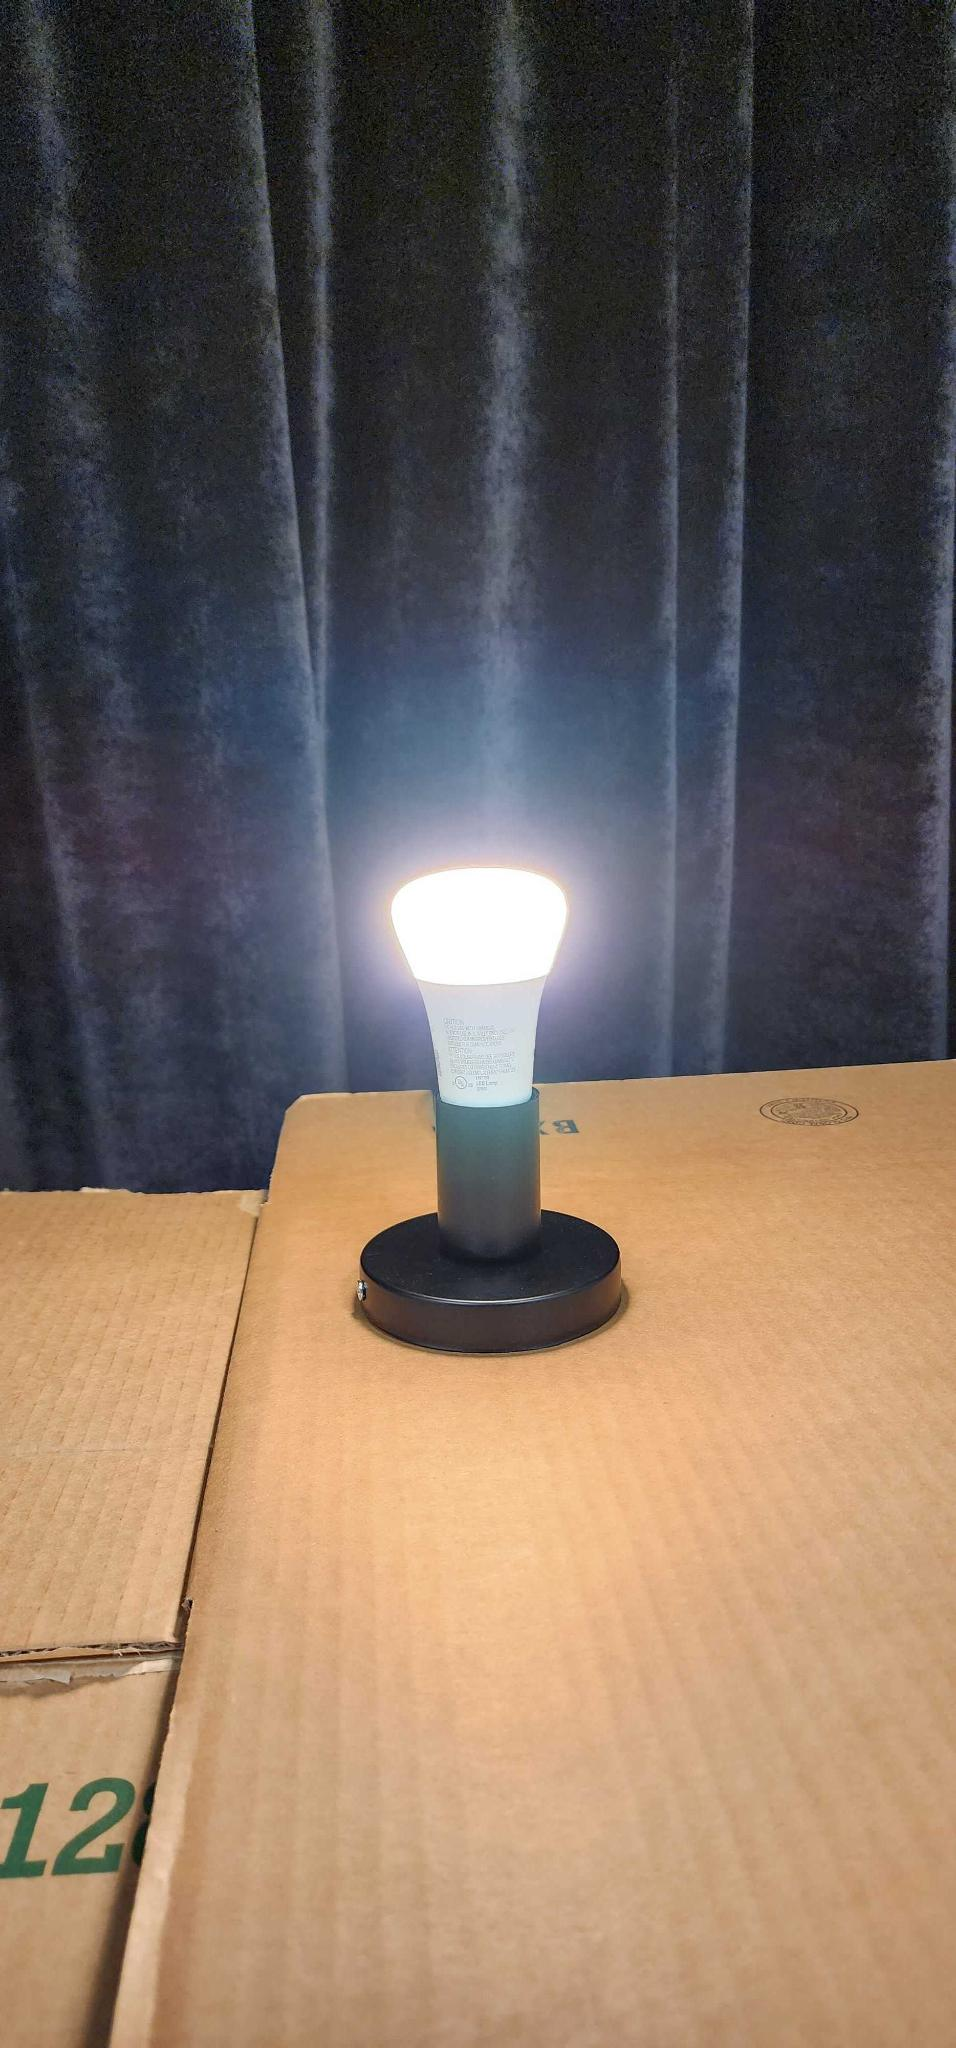TubeLight: (387, 866, 567, 1110)
